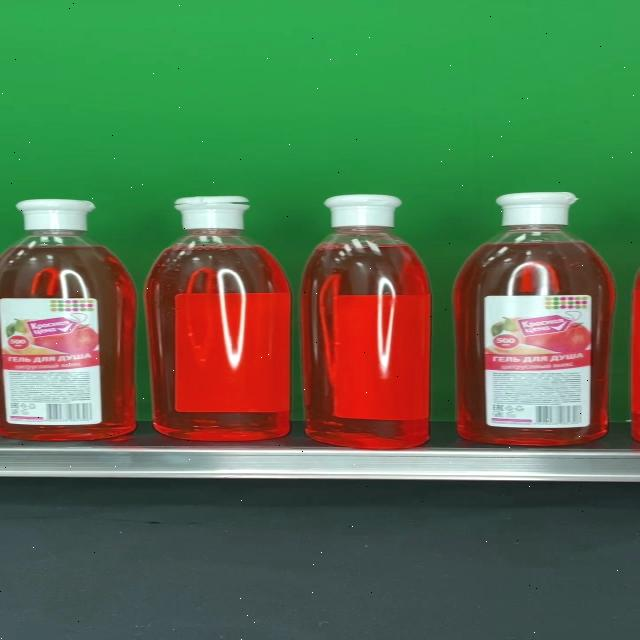Bottle: (455, 192, 615, 444), (146, 197, 292, 440), (0, 198, 137, 441), (302, 196, 430, 448)
Cap: (494, 192, 579, 227), (14, 198, 96, 231), (172, 197, 249, 231), (322, 196, 402, 228)
